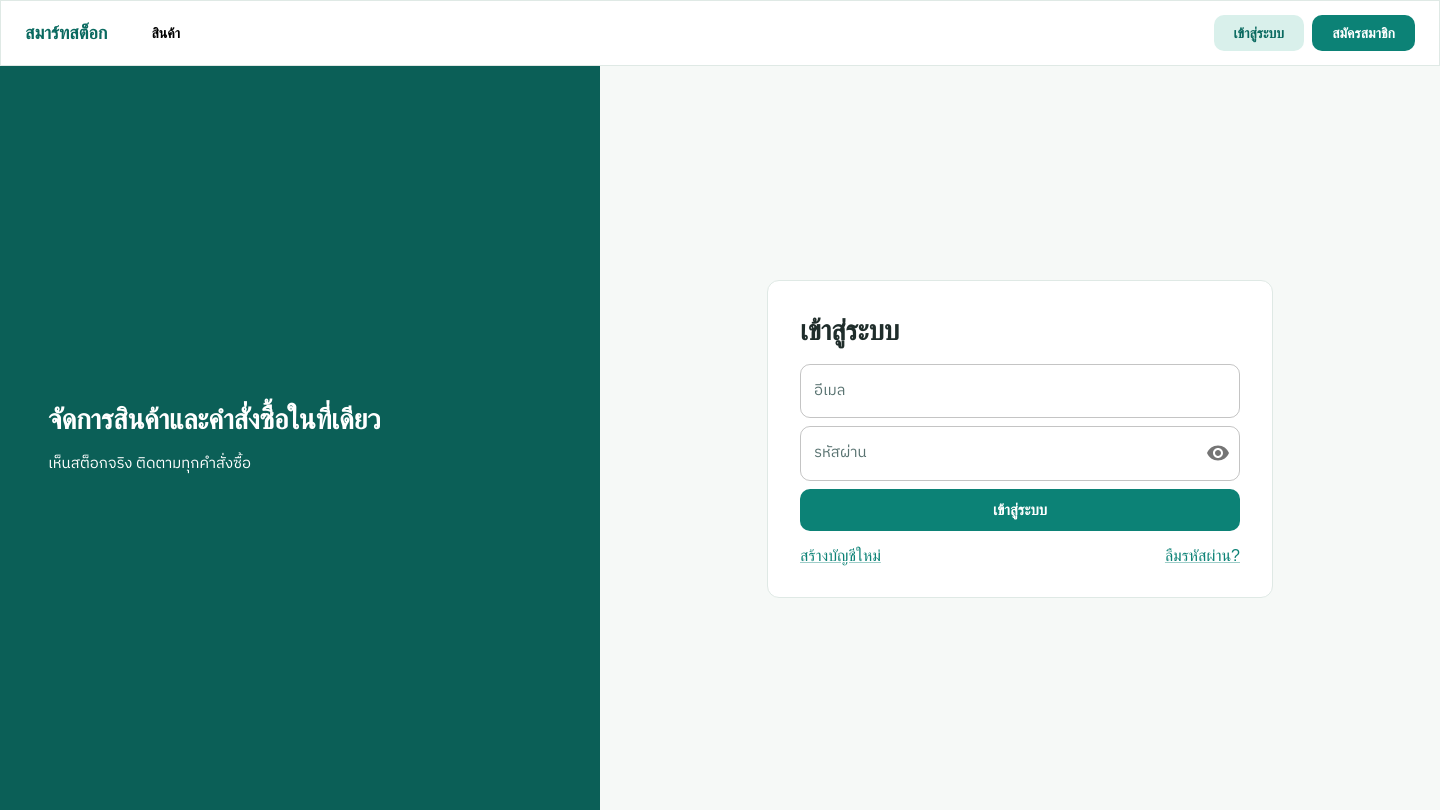
shows validation messages for empty fields
The image size is (1440, 810).
Click the button "เข้าสู่ระบบ".
click(1020, 510)  # box [800,489,1240,531]
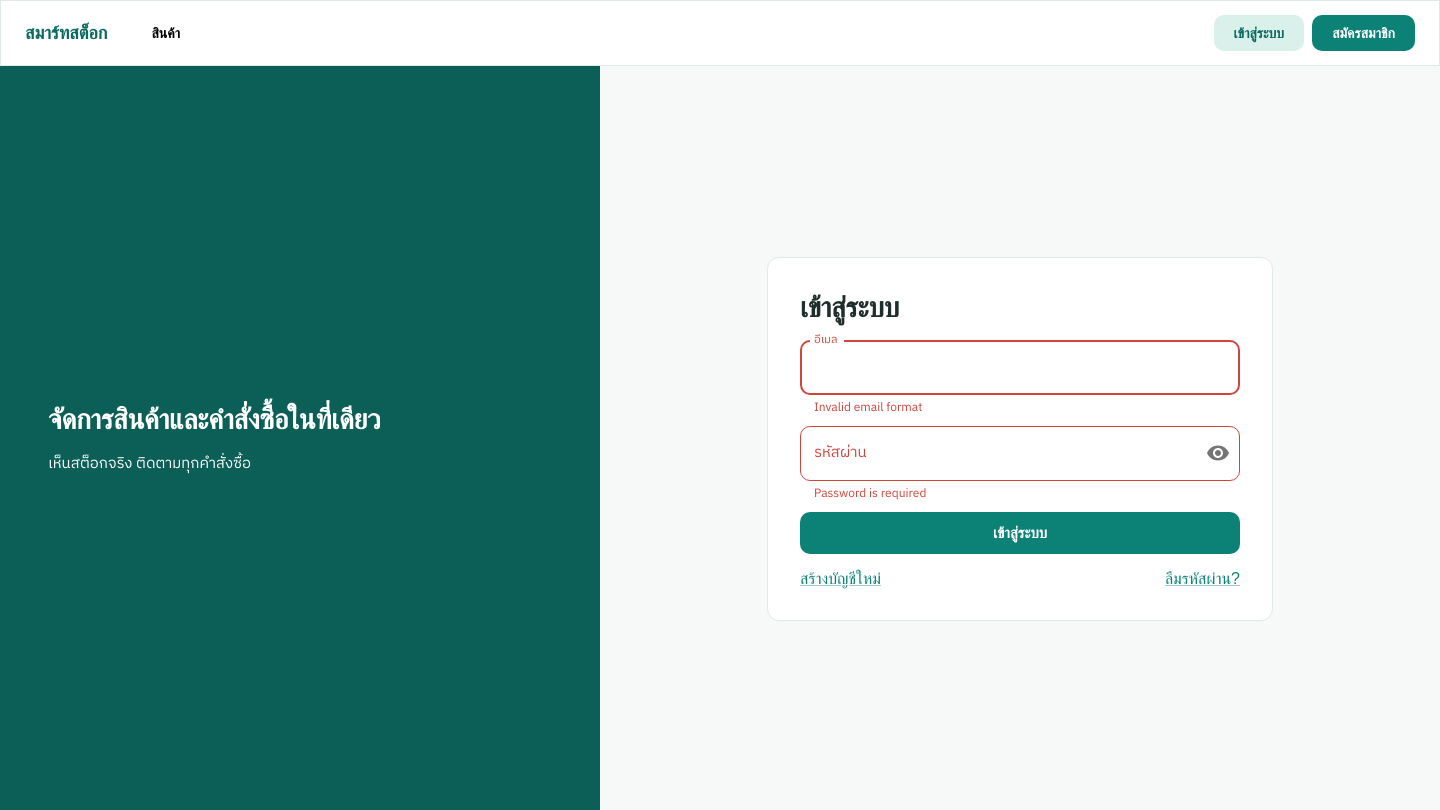
Expected: the text "Invalid email format" is shown, [814,398,922,417]
Expected: the text "Password is required" is shown, [814,484,926,503]
